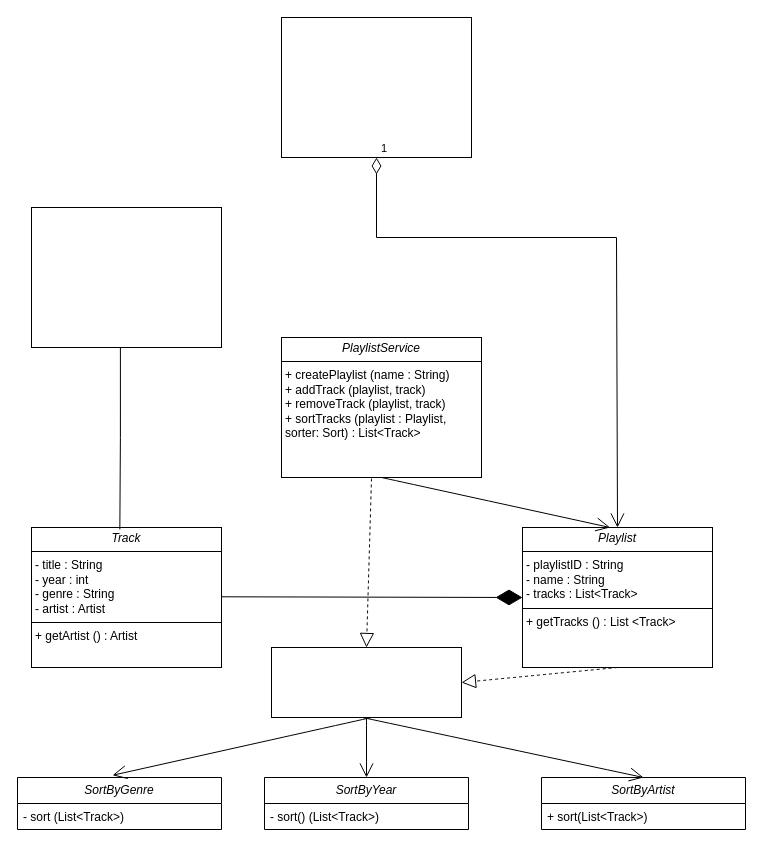
Image size: 763x850. Some labels were removed from this diagram. Here are the shapes that lost their labels. From the top down, the centre of each, then its label:
At (376,87): "User - userID : int - username : String + login () + logout ()".
At (126,277): "Artist - name : String + getDiscography () : List <Track>".
At (366,682): "Sort Interface + sort(tracks : List<Track>) : List<Track>".
